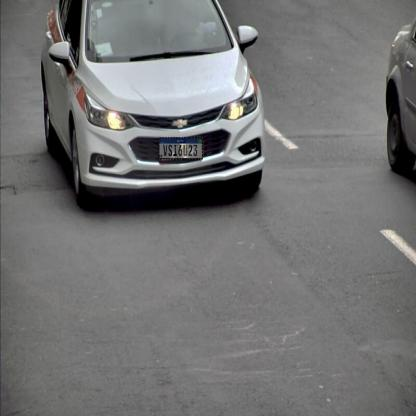PlacaM: (158, 138, 202, 160)
